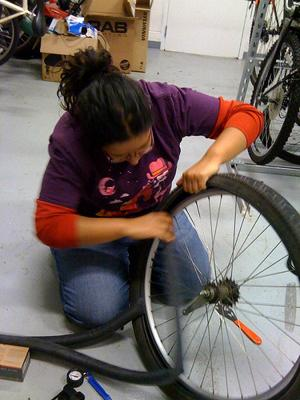person: (28, 42, 266, 326)
